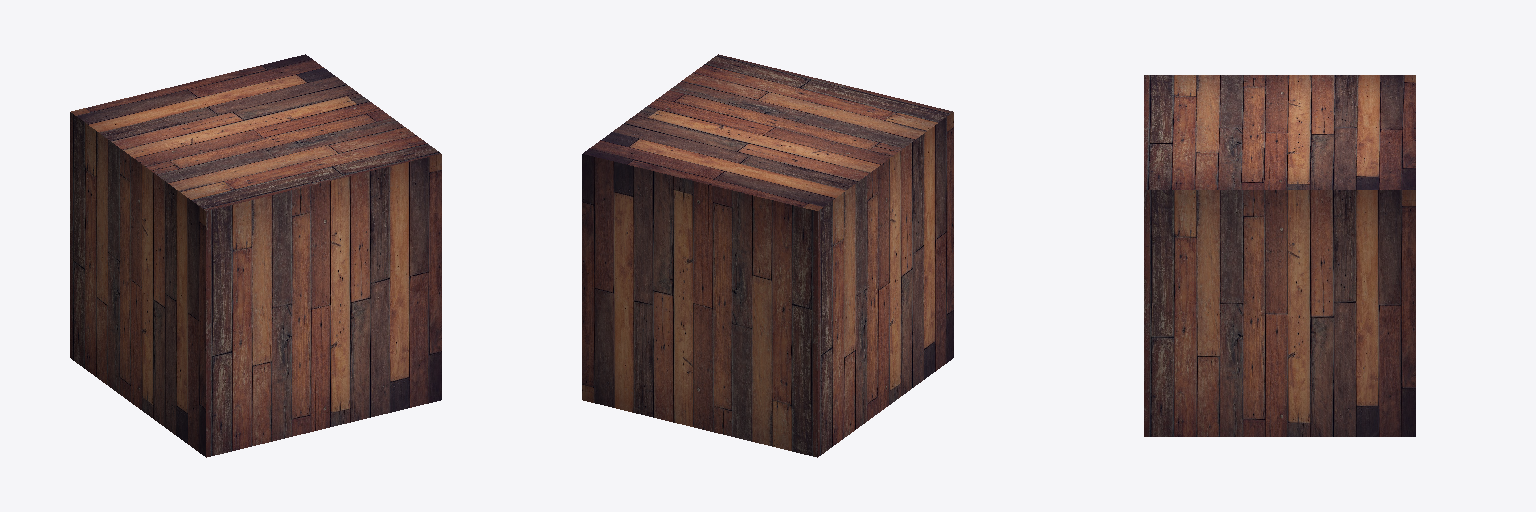
3 views of the same model, side by side, from view 1: azimuth 30°, elevation 25°; view 2: azimuth 150°, elevation 25°; view 3: azimuth 270°, elevation 25° (orthographic).
Visible parts, largest first — view 1: pCube1; view 2: pCube1; view 3: pCube1.
Part boxes in pixels (bbox=[...]): pCube1: bbox=[70, 54, 441, 457]; pCube1: bbox=[582, 54, 953, 457]; pCube1: bbox=[1144, 75, 1415, 436].
Size of the model in its own units: 6.14 by 6.14 by 6.14.
Materials: 1 (1 with a texture image).